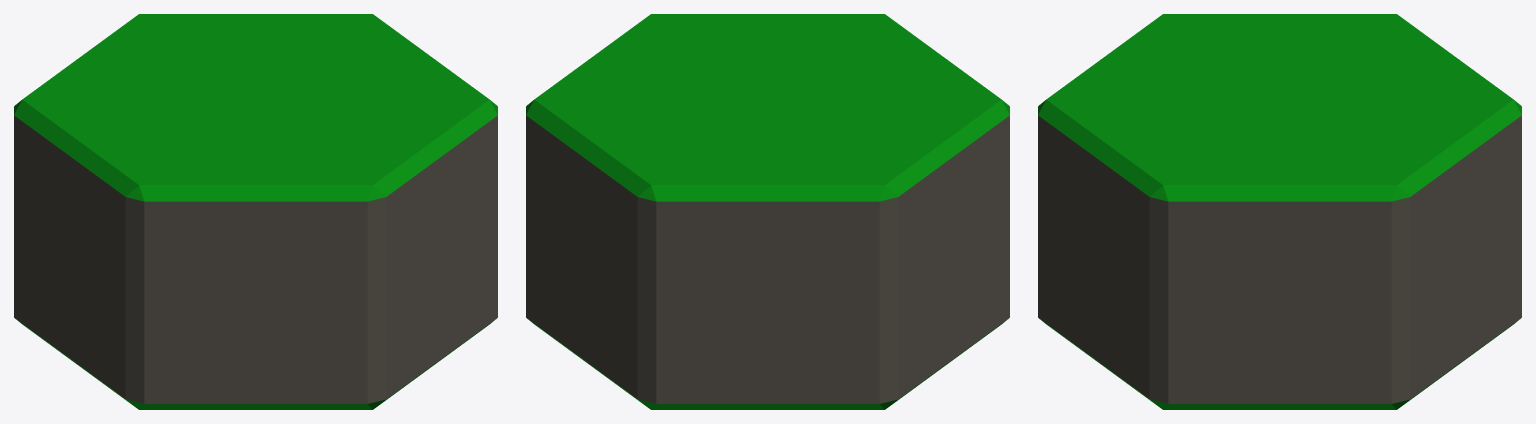
The model's file is BaseHex_Green.fbx.
3 views of the same model, side by side, from view 1: azimuth 30°, elevation 25°; view 2: azimuth 150°, elevation 25°; view 3: azimuth 270°, elevation 25° (orthographic).
Visible parts, largest first — view 1: 03.Green; view 2: 03.Green; view 3: 03.Green.
Part boxes in pixels (left/top/right/bottom): 03.Green: left=14, top=14, right=497, bottom=409; 03.Green: left=526, top=14, right=1009, bottom=409; 03.Green: left=1038, top=14, right=1521, bottom=409.
Bounding box in the file's own units: 173 × 100 × 195.
1 material, 1 textured.
